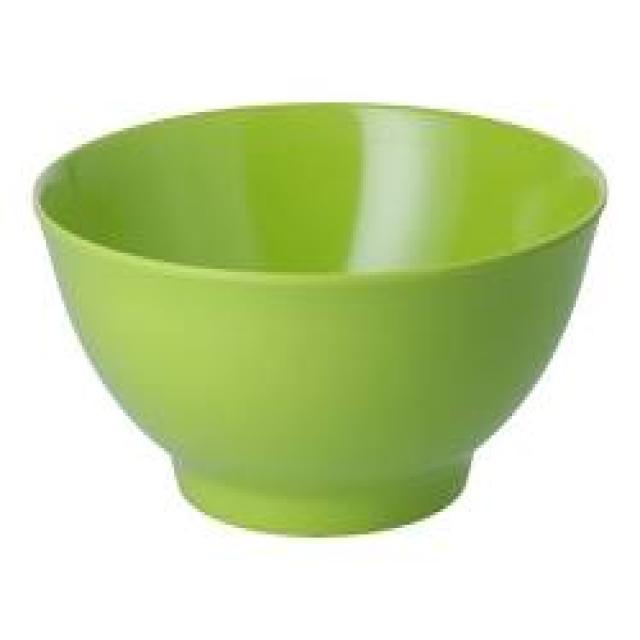alat_rumah_tangga: (27, 41, 593, 573)
